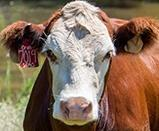muzzles: (51, 95, 99, 125)
